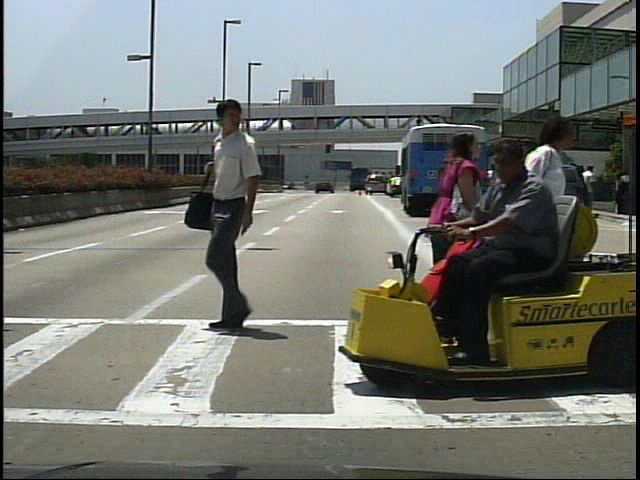person: (443, 143, 585, 378), (186, 94, 287, 337), (490, 110, 579, 364), (423, 125, 488, 356), (473, 190, 512, 323), (582, 164, 602, 218), (490, 163, 509, 213), (500, 166, 518, 218)
